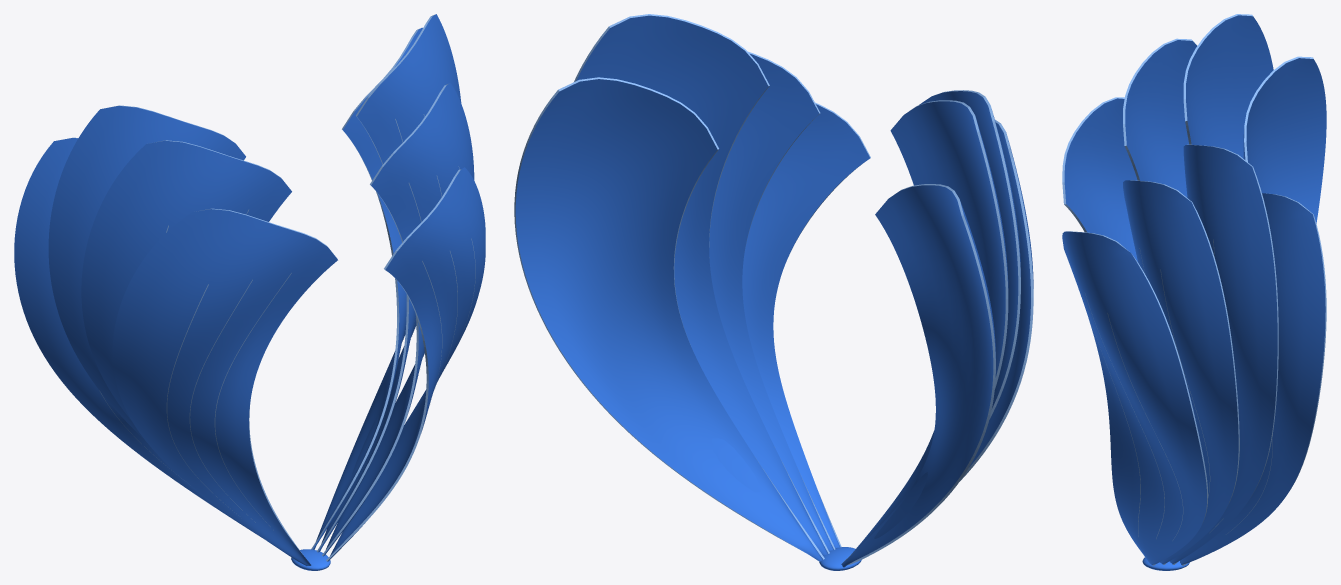
File: folio.glb
3 renders of one model, left to right at view 1: azimuth 30°, elevation 25°; view 2: azimuth 150°, elevation 25°; view 3: azimuth 270°, elevation 25°, orthographic. The views are drawn at different scales.
Visible parts, largest first — view 1: HERO_leaf_01, HERO_leaf_02, HERO_leaf_05, HERO_leaf_03, HERO_leaf_06, HERO_leaf_04, HERO_leaf_07, HERO_leaf_08; view 2: HERO_leaf_08, HERO_leaf_07, HERO_leaf_04, HERO_leaf_06, HERO_leaf_05, HERO_leaf_03, HERO_leaf_02, HERO_leaf_01; view 3: HERO_leaf_05, HERO_leaf_06, HERO_leaf_07, HERO_leaf_08, HERO_leaf_04, HERO_leaf_03, HERO_leaf_02, HERO_leaf_01.
Boxes of the visible parts, left/top/right/bottom form: HERO_leaf_01: left=112, top=208, right=337, bottom=565; HERO_leaf_02: left=81, top=140, right=291, bottom=420; HERO_leaf_05: left=326, top=167, right=485, bottom=561; HERO_leaf_03: left=48, top=105, right=245, bottom=439; HERO_leaf_06: left=322, top=83, right=474, bottom=556; HERO_leaf_04: left=14, top=137, right=261, bottom=537; HERO_leaf_07: left=316, top=14, right=461, bottom=552; HERO_leaf_08: left=311, top=27, right=422, bottom=549; HERO_leaf_08: left=514, top=77, right=824, bottom=561; HERO_leaf_07: left=574, top=14, right=829, bottom=555; HERO_leaf_04: left=841, top=184, right=995, bottom=567; HERO_leaf_06: left=709, top=51, right=835, bottom=550; HERO_leaf_05: left=742, top=102, right=870, bottom=548; HERO_leaf_03: left=851, top=100, right=1008, bottom=554; HERO_leaf_02: left=919, top=90, right=1020, bottom=419; HERO_leaf_01: left=960, top=119, right=1033, bottom=480; HERO_leaf_05: left=1062, top=231, right=1208, bottom=565; HERO_leaf_06: left=1123, top=180, right=1239, bottom=564; HERO_leaf_07: left=1170, top=144, right=1278, bottom=564; HERO_leaf_08: left=1180, top=193, right=1326, bottom=565; HERO_leaf_04: left=1243, top=56, right=1326, bottom=223; HERO_leaf_03: left=1183, top=14, right=1273, bottom=158; HERO_leaf_02: left=1123, top=38, right=1197, bottom=197; HERO_leaf_01: left=1062, top=97, right=1137, bottom=261.
Bounding box in the file's own units: 3.82 × 4.06 × 1.99.
